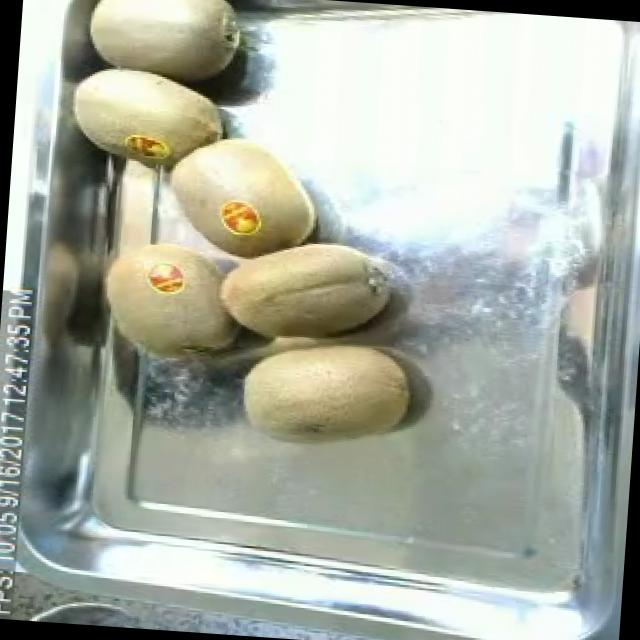Fruit: (227, 324, 426, 461), (207, 224, 406, 360), (54, 64, 238, 182), (68, 0, 258, 89)
